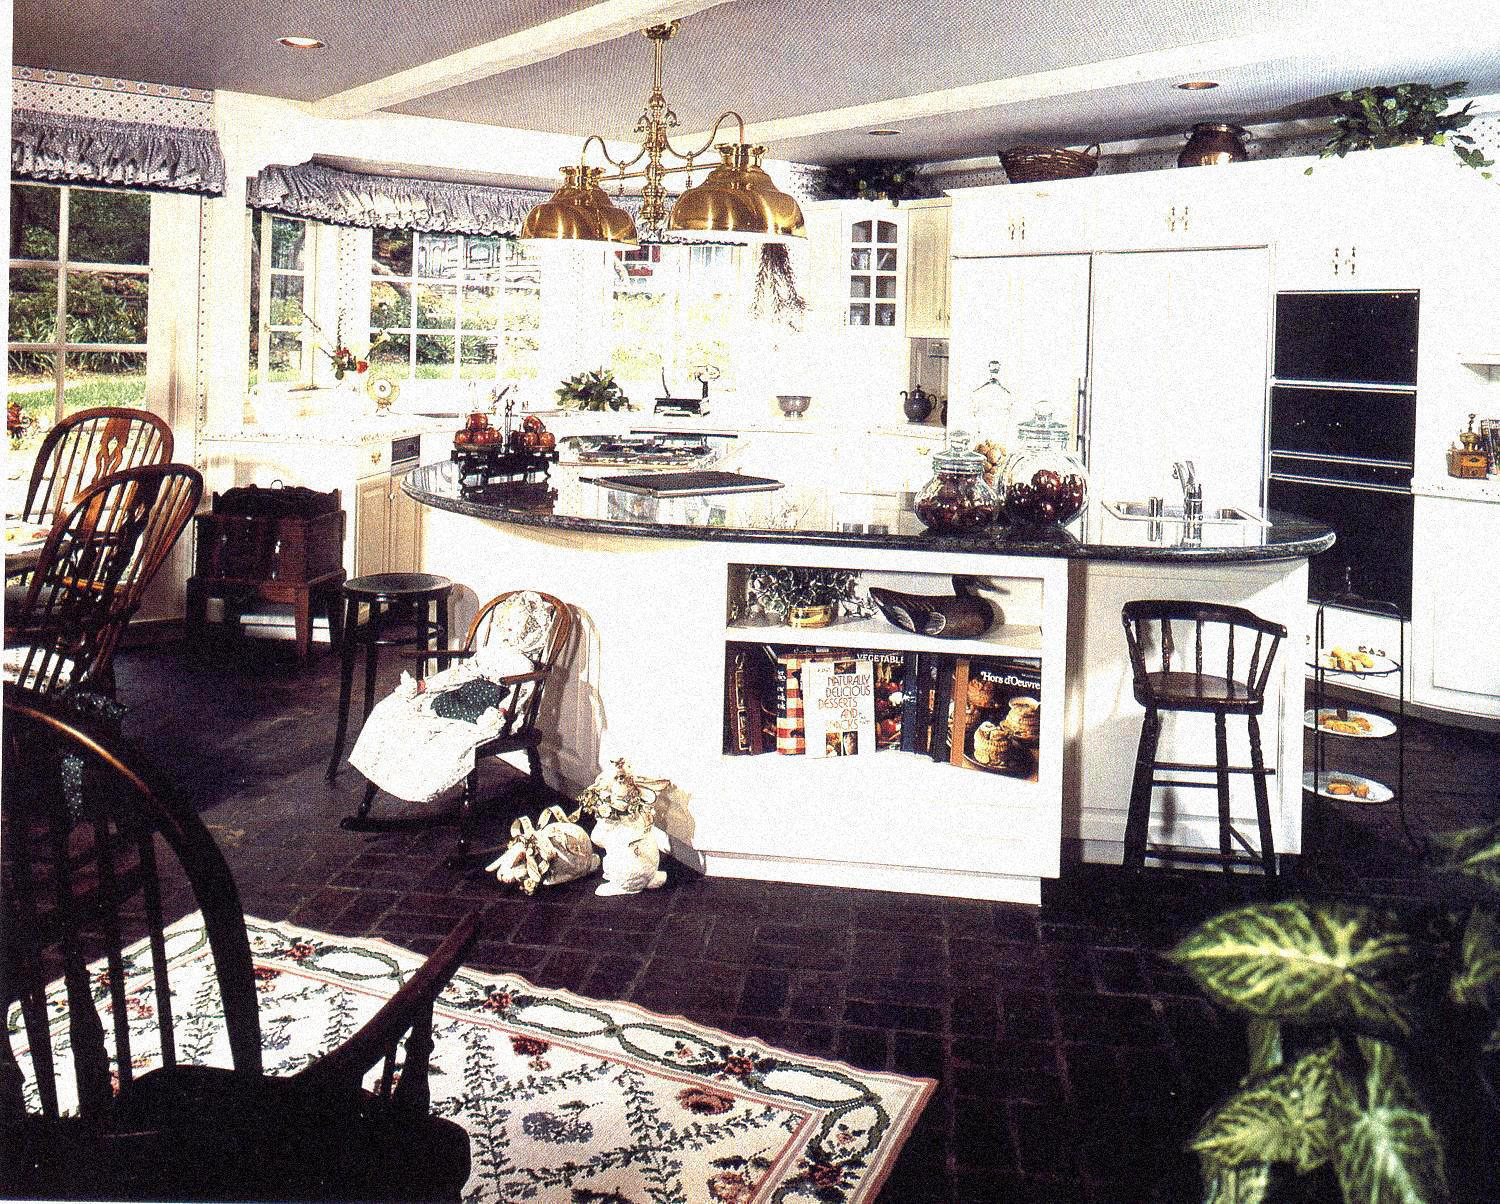Electrodomestico: (1278, 286, 1404, 616)
Lavaplatos: (1111, 459, 1271, 537)
Otro Obstaculo: (373, 614, 557, 819), (514, 768, 682, 899), (211, 489, 328, 661)
